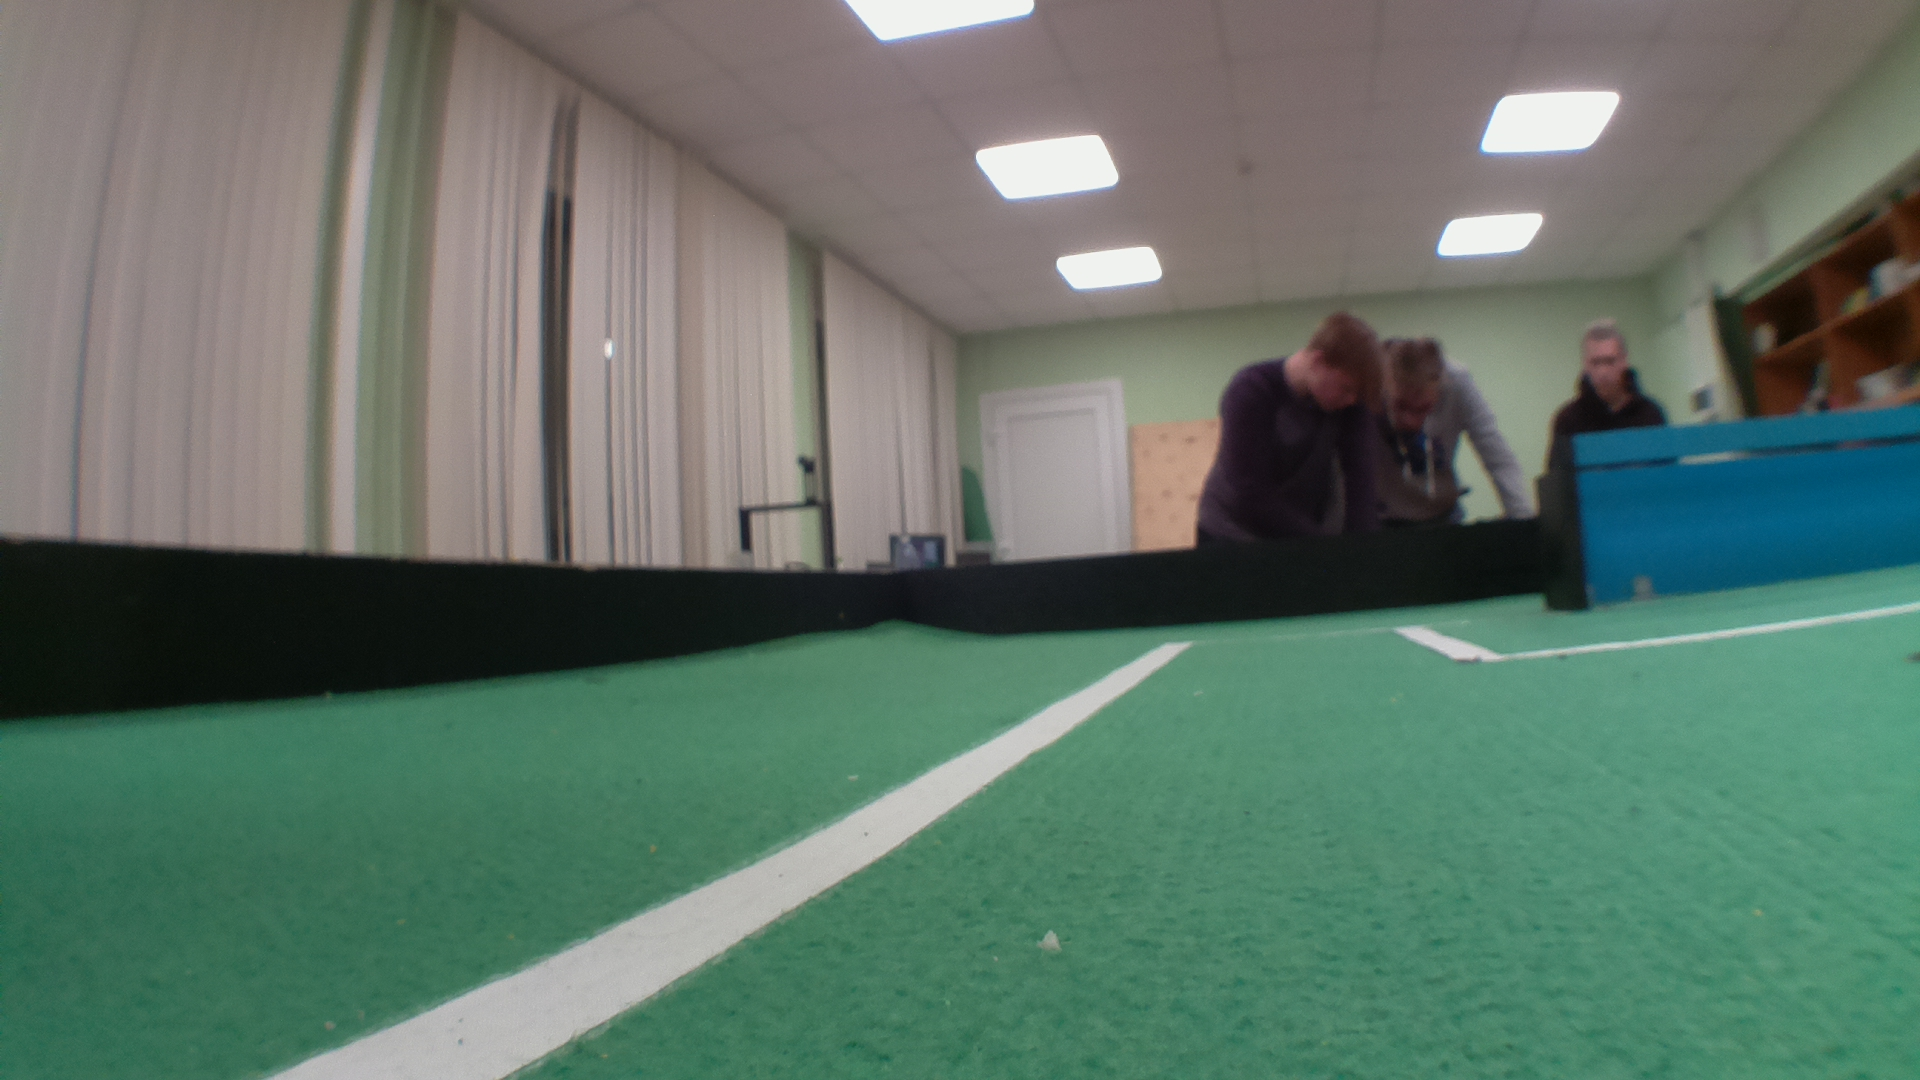BlueGoal: (1576, 409, 1919, 605)
